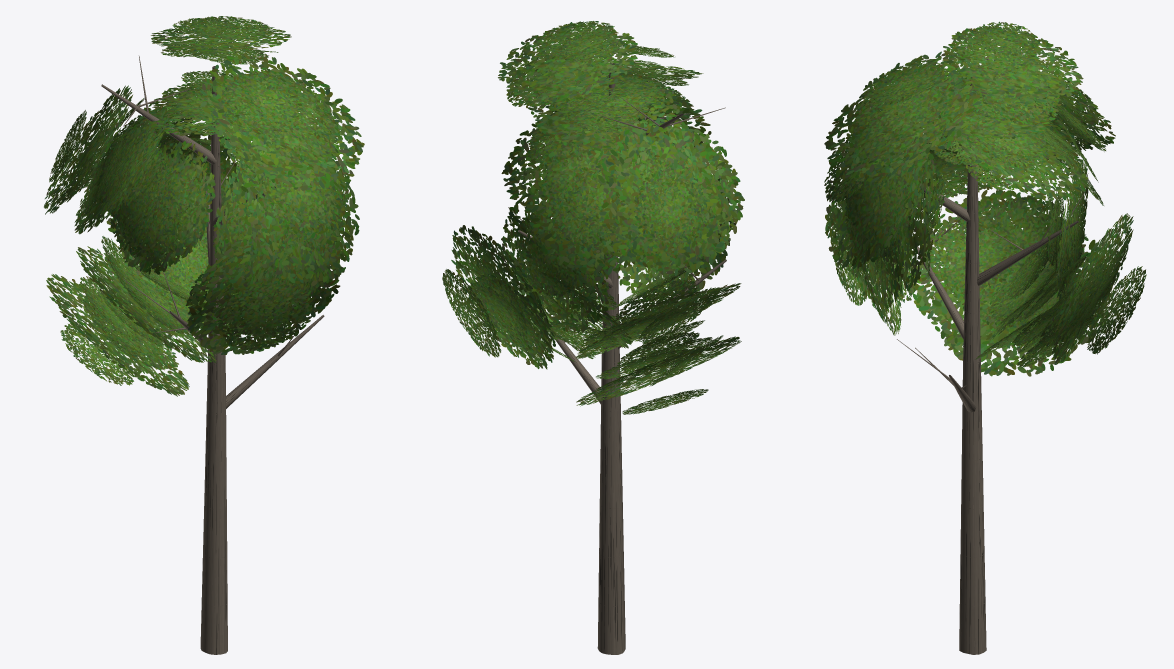
Rendered from Hickory_LOD0.fbx.
The picture shows the model from 3 angles, left to right: view 1: azimuth 30°, elevation 25°; view 2: azimuth 150°, elevation 25°; view 3: azimuth 270°, elevation 25°; orthographic projection.
Parts seen in each view (by area): view 1: Hickory_LOD0; view 2: Hickory_LOD0; view 3: Hickory_LOD0.
Part boxes in pixels (x1=…): Hickory_LOD0: x1=44, y1=16, x2=364, y2=654; Hickory_LOD0: x1=442, y1=21, x2=744, y2=654; Hickory_LOD0: x1=824, y1=21, x2=1146, y2=654.
Bounding box in the file's own units: 9.88 × 18.74 × 9.78.
Materials: 1 (1 with a texture image).
